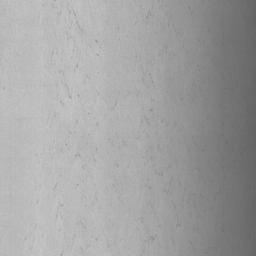Silk spot: (253, 0, 256, 28)
